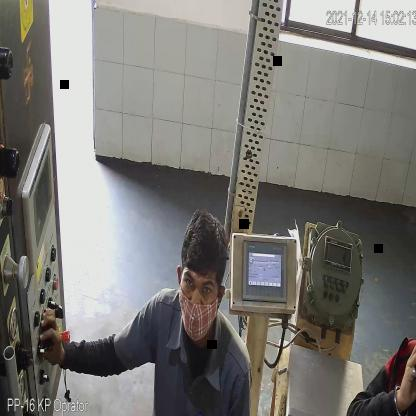no_goggles: (182, 272, 217, 306)
